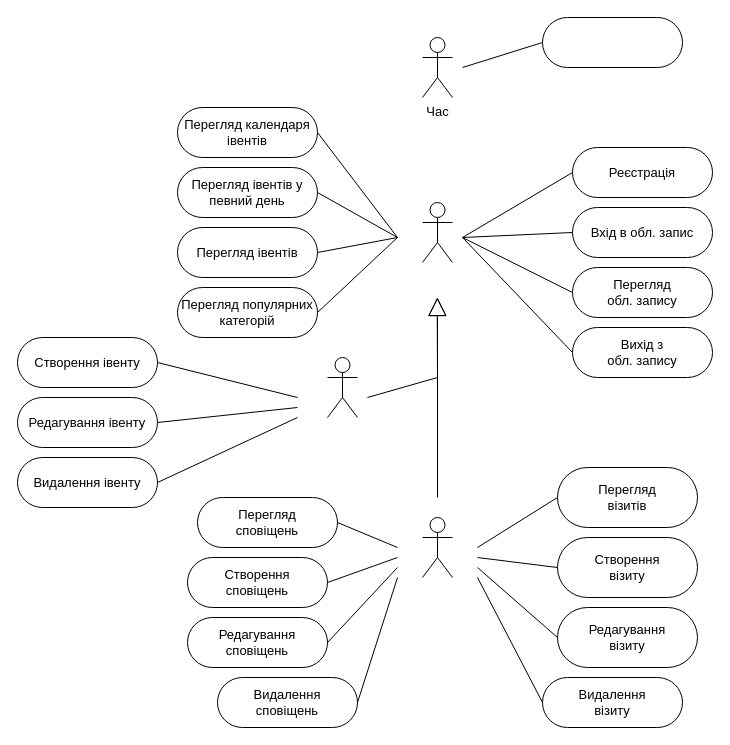
Image size: 730x745. Some labels were removed from this diagram. The shapes that lost their labels are listed below. From the top down, each one's centre as x and y in pixels, then its label:
pixel 612 42: Розсилка сповіщень
pixel 437 232: Користувач
pixel 342 387: Організатор
pixel 437 547: Відвідувач
